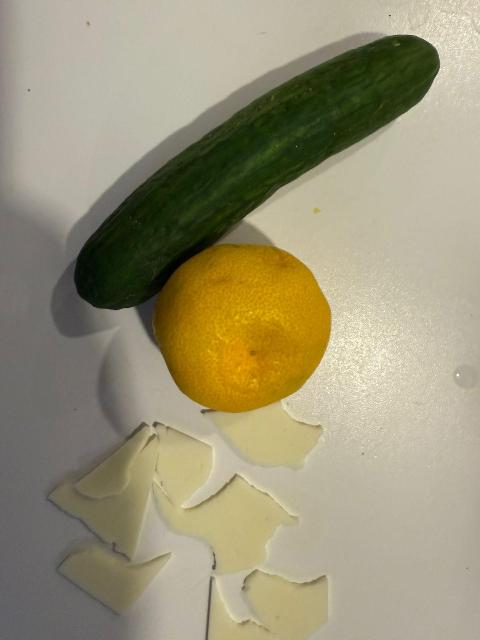Organik: (80, 36, 443, 325), (155, 235, 341, 403), (28, 444, 168, 553), (151, 484, 295, 569), (63, 519, 185, 604), (212, 397, 331, 471), (245, 565, 357, 640), (81, 425, 160, 504), (195, 579, 268, 640)
